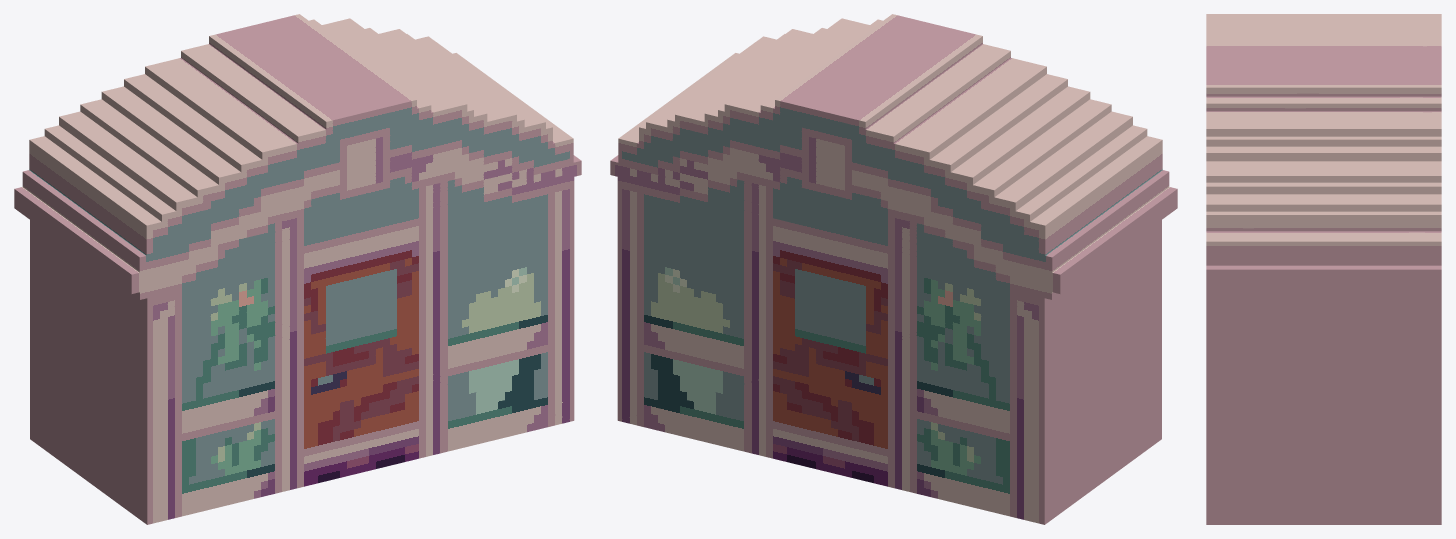
The model's file is greenhouse.fbx.
The picture shows the model from 3 angles, left to right: view 1: azimuth 30°, elevation 25°; view 2: azimuth 150°, elevation 25°; view 3: azimuth 270°, elevation 25°; orthographic projection.
Parts seen in each view (by area): view 1: Empty.001; view 2: Empty.001; view 3: Empty.001.
Boxes of the visible parts, <box> form: Empty.001: <box>14,14,581,524</box>; Empty.001: <box>610,14,1177,524</box>; Empty.001: <box>1206,14,1441,524</box>.
Bounding box in the file's own units: 97.91 × 74.72 × 44.22.
1 material, 1 textured.
